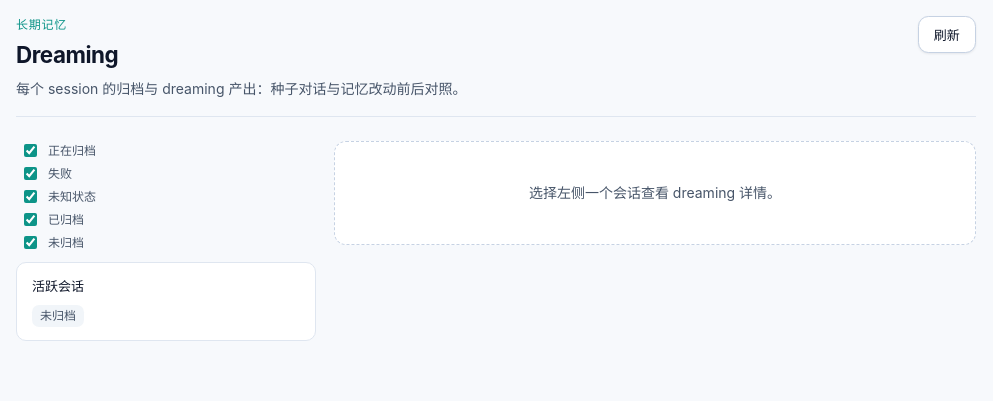
Test: DreamingPage › renders the unarchived empty state with session excerpts
The image size is (993, 401).
Step 1. Click the text "活跃会话" → (58, 287), box [32,276,84,297]
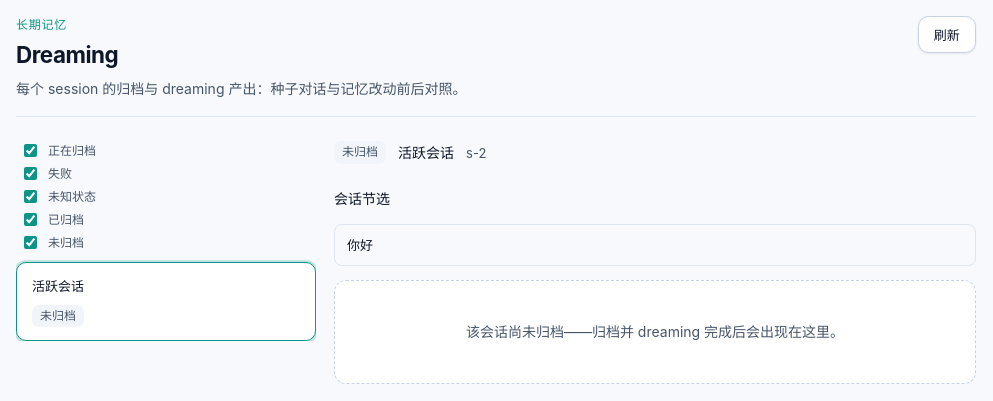
Now the text "你好" is shown, box [347,237,373,253]
Now the text "该会话尚未归档——归档并 dreaming 完成后会出现在这里。" is shown, box [334,280,976,384]
